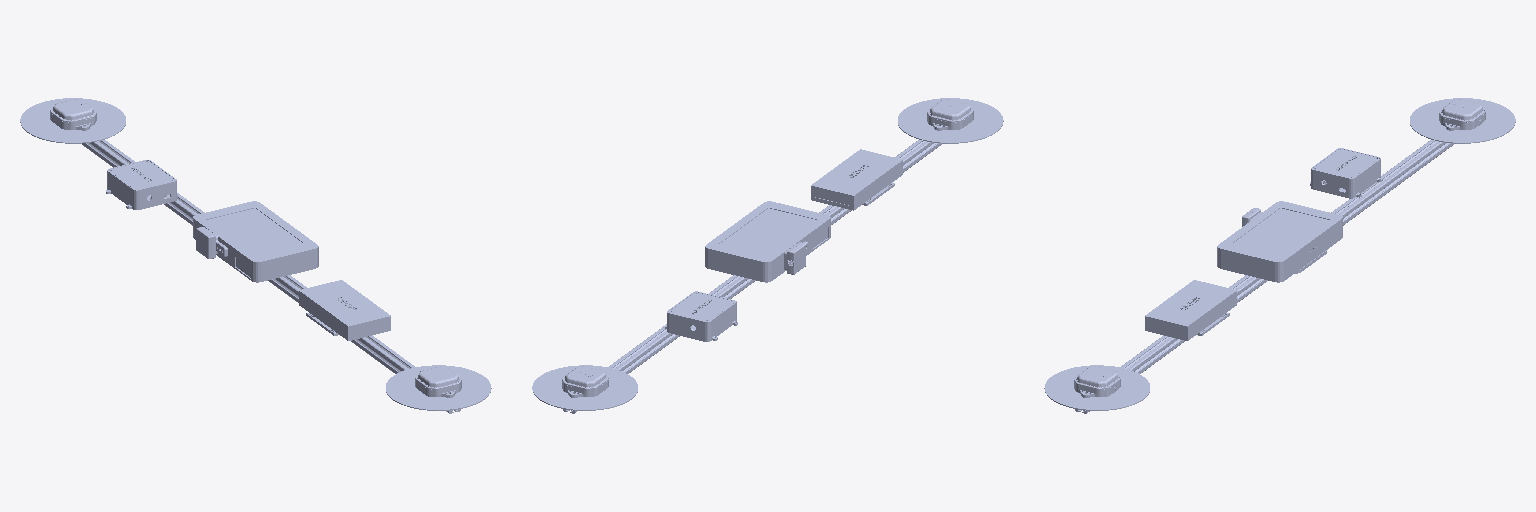
URDF robot description (proto_localization):
<?xml version="1.0" encoding="utf-8"?>
<!-- This URDF was automatically created by SolidWorks to URDF Exporter! Originally created by [author] ([email redacted]) 
     Commit Version: 1.6.0-4-g7f85cfe  Build Version: 1.6.7995.38578
     For more information, please see http://wiki.ros.org/sw_urdf_exporter -->
<robot
  name="proto_localization">
  <link
    name="base_link">
    <inertial>
      <origin
        xyz="-0.0020831 -0.039128 -0.0085967"
        rpy="0 0 0" />
      <mass
        value="1.6017" />
      <inertia
        ixx="0.03136"
        ixy="5.8125E-06"
        ixz="1.2988E-07"
        iyy="0.0012673"
        iyz="5.2421E-07"
        izz="0.032422" />
    </inertial>
    <visual>
      <origin
        xyz="0 0 0"
        rpy="0 0 0" />
      <geometry>
        <mesh
          filename="package://proto_localization/meshes/base_link.STL" />
      </geometry>
      <material
        name="">
        <color
          rgba="0.79216 0.81961 0.93333 1" />
      </material>
    </visual>
    <collision>
      <origin
        xyz="0 0 0"
        rpy="0 0 0" />
      <geometry>
        <mesh
          filename="package://proto_localization/meshes/base_link.STL" />
      </geometry>
    </collision>
  </link>
</robot>

--- What the picture shows (computed from the rendered views, not written in the file) ---
3 views of the same robot in one strip: view 1: azimuth 30°, elevation 25°; view 2: azimuth 150°, elevation 25°; view 3: azimuth 330°, elevation 25° (orthographic).
Model proto_localization with 1 links and 0 joints (none), rooted at base_link, posed every joint at zero.
Visible links, largest first — view 1: base_link; view 2: base_link; view 3: base_link.
Boxes of the visible links, left/top/right/bottom form: base_link: left=20, top=98, right=491, bottom=413; base_link: left=532, top=98, right=1003, bottom=413; base_link: left=1044, top=98, right=1515, bottom=413.
Size in the robot's own frame: 0.166 by 1.26 by 0.0617 metres.
Meshes: 1 distinct files referenced, 1 mesh visuals loaded (1 binary STL).